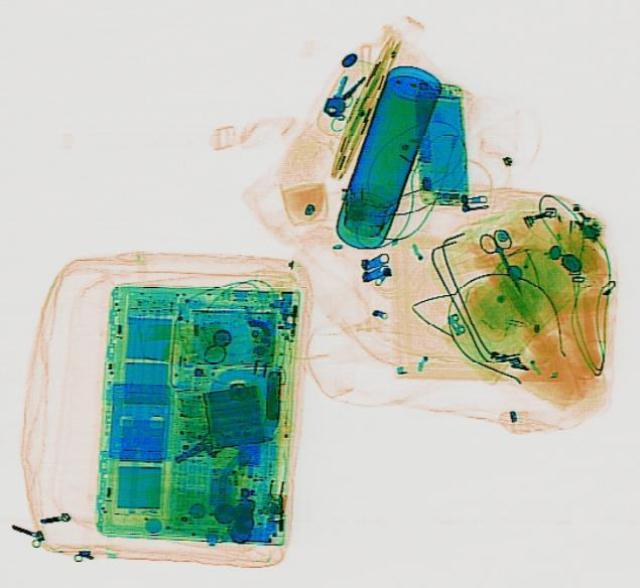Scissors: (473, 224, 535, 294)
